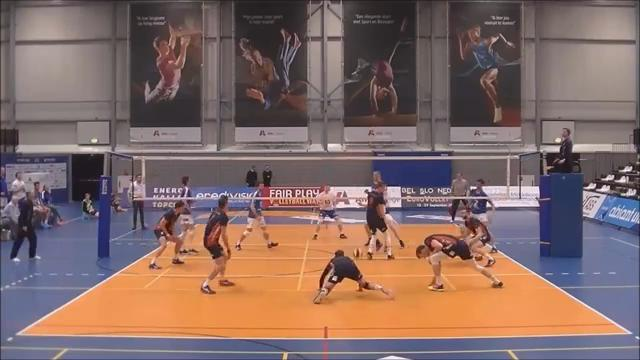difesa: (306, 248, 397, 301)
